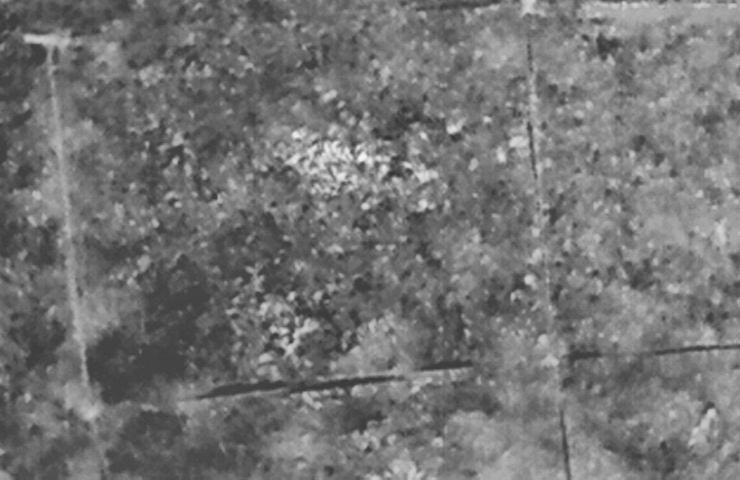landmines: (279, 116, 399, 206)
